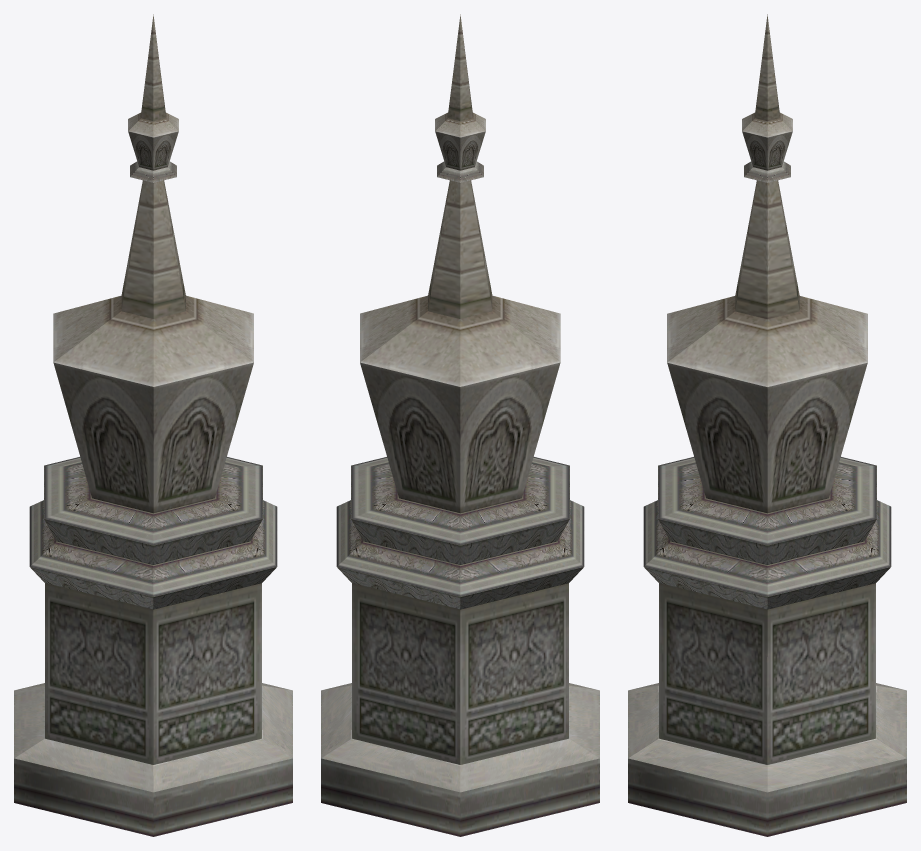
File: Youshuizhou_zhiwu_088.FBX
3 views of the same model, side by side, from view 1: azimuth 30°, elevation 25°; view 2: azimuth 150°, elevation 25°; view 3: azimuth 270°, elevation 25° (orthographic).
Parts seen in each view (by area): view 1: Object308; view 2: Object308; view 3: Object308.
Part boxes in pixels (box(x1,y1,x2,y2)): Object308: box(14, 14, 292, 836); Object308: box(321, 14, 599, 836); Object308: box(628, 14, 906, 836).
Bounding box in the file's own units: 1.09 × 2.83 × 0.948.
1 material, 1 textured.
